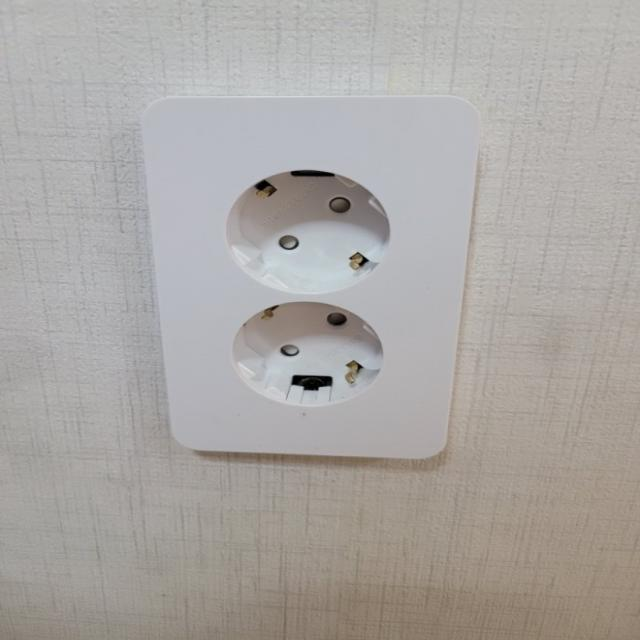typeb: (13, 0, 640, 640)
